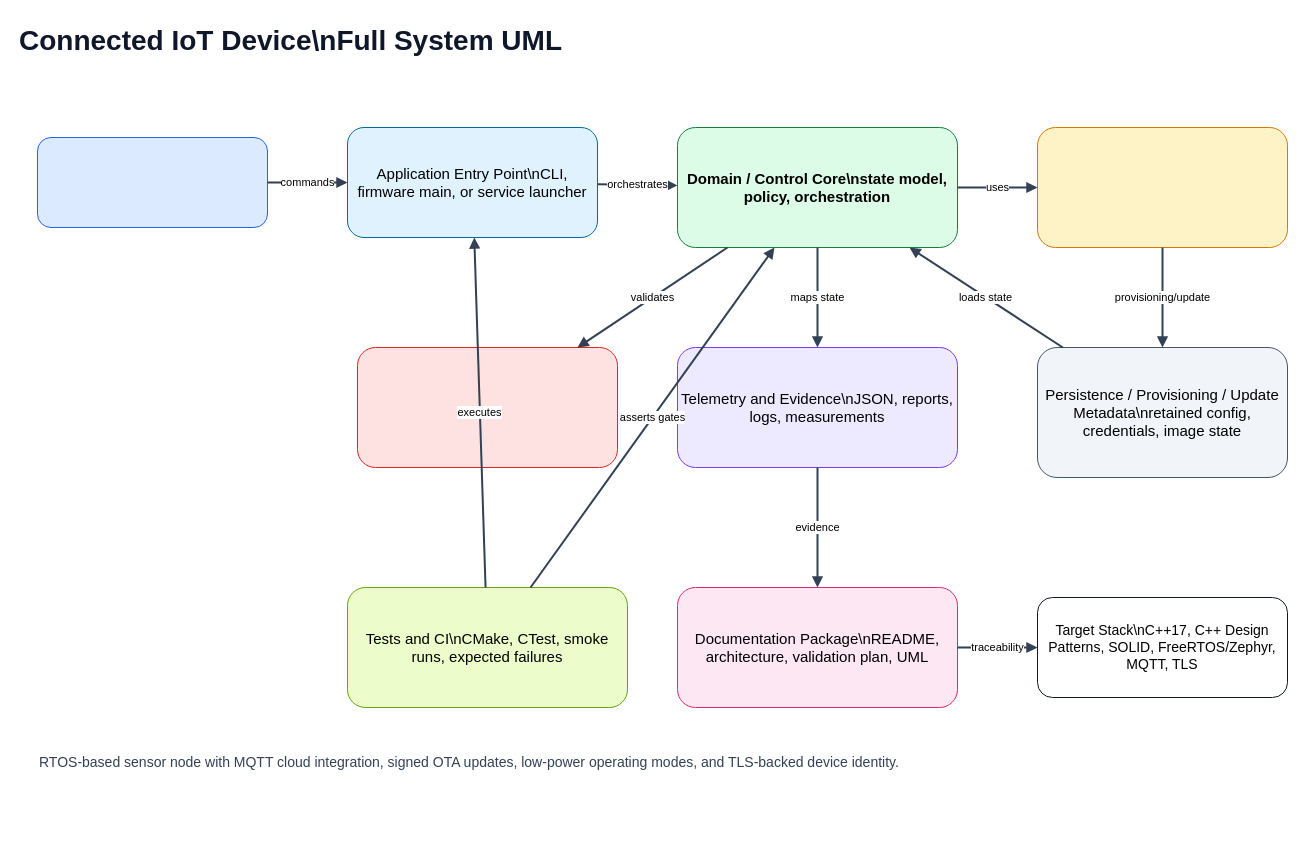
The diagram is 1305 pixels wide and 844 high, and some of its shapes have lost their labels. The shapes that lost their labels are listed below. From the top down, each one's centre as x and y in pixels, then its label:
At point (152, 182): "Operator / Cloud / Test Harness".
At point (1162, 187): "Hardware and Simulator Adapters\nsensors, buses, files, transports".
At point (487, 407): "Safety / Readiness Gates\nconfig, battery, timing, OTA, bounds".
